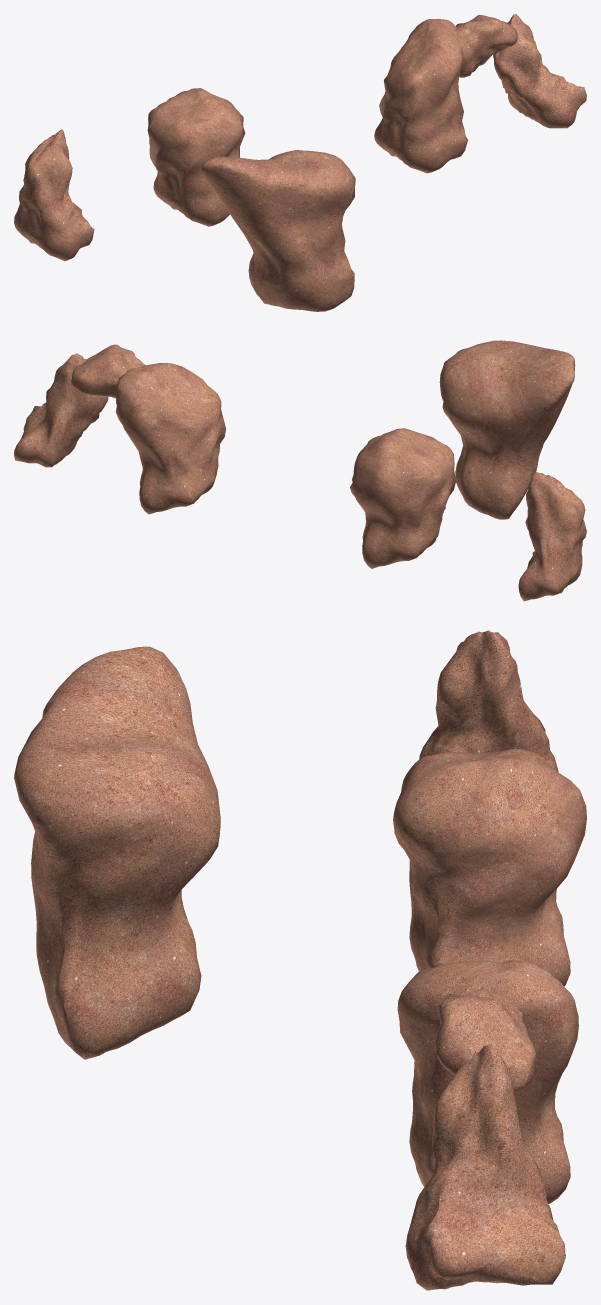
File: SandMountains3.fbx
The picture shows the model from 3 angles, top to bottom: view 1: azimuth 30°, elevation 25°; view 2: azimuth 150°, elevation 25°; view 3: azimuth 270°, elevation 25°; orthographic projection. The views are drawn at different scales.
Parts seen in each view (by area): view 1: Landscape.005, Landscape.002, Landscape, Landscape.001, Landscape.004, Landscape.003; view 2: Landscape.005, Landscape.002, Landscape, Landscape.001, Landscape.004, Landscape.003; view 3: Landscape.005, Landscape, Landscape.004, Landscape.002, Landscape.001, Landscape.003.
Boxes of the visible parts, x1,y1,x2,y2 form: Landscape.005: (201,150,355,311); Landscape.002: (374,19,467,173); Landscape: (147,88,245,226); Landscape.001: (14,129,94,261); Landscape.004: (493,14,586,128); Landscape.003: (455,15,517,77); Landscape.005: (439,340,575,519); Landscape.002: (115,363,225,514); Landscape: (350,428,455,568); Landscape.001: (518,472,586,601); Landscape.004: (14,353,108,467); Landscape.003: (71,344,145,398); Landscape.005: (14,646,220,1059); Landscape: (393,749,586,986); Landscape.004: (405,1044,565,1290); Landscape.002: (397,960,578,1203); Landscape.001: (419,630,558,772); Landscape.003: (434,988,535,1091).
Size of the model in its own units: 1474 by 420 by 692.
